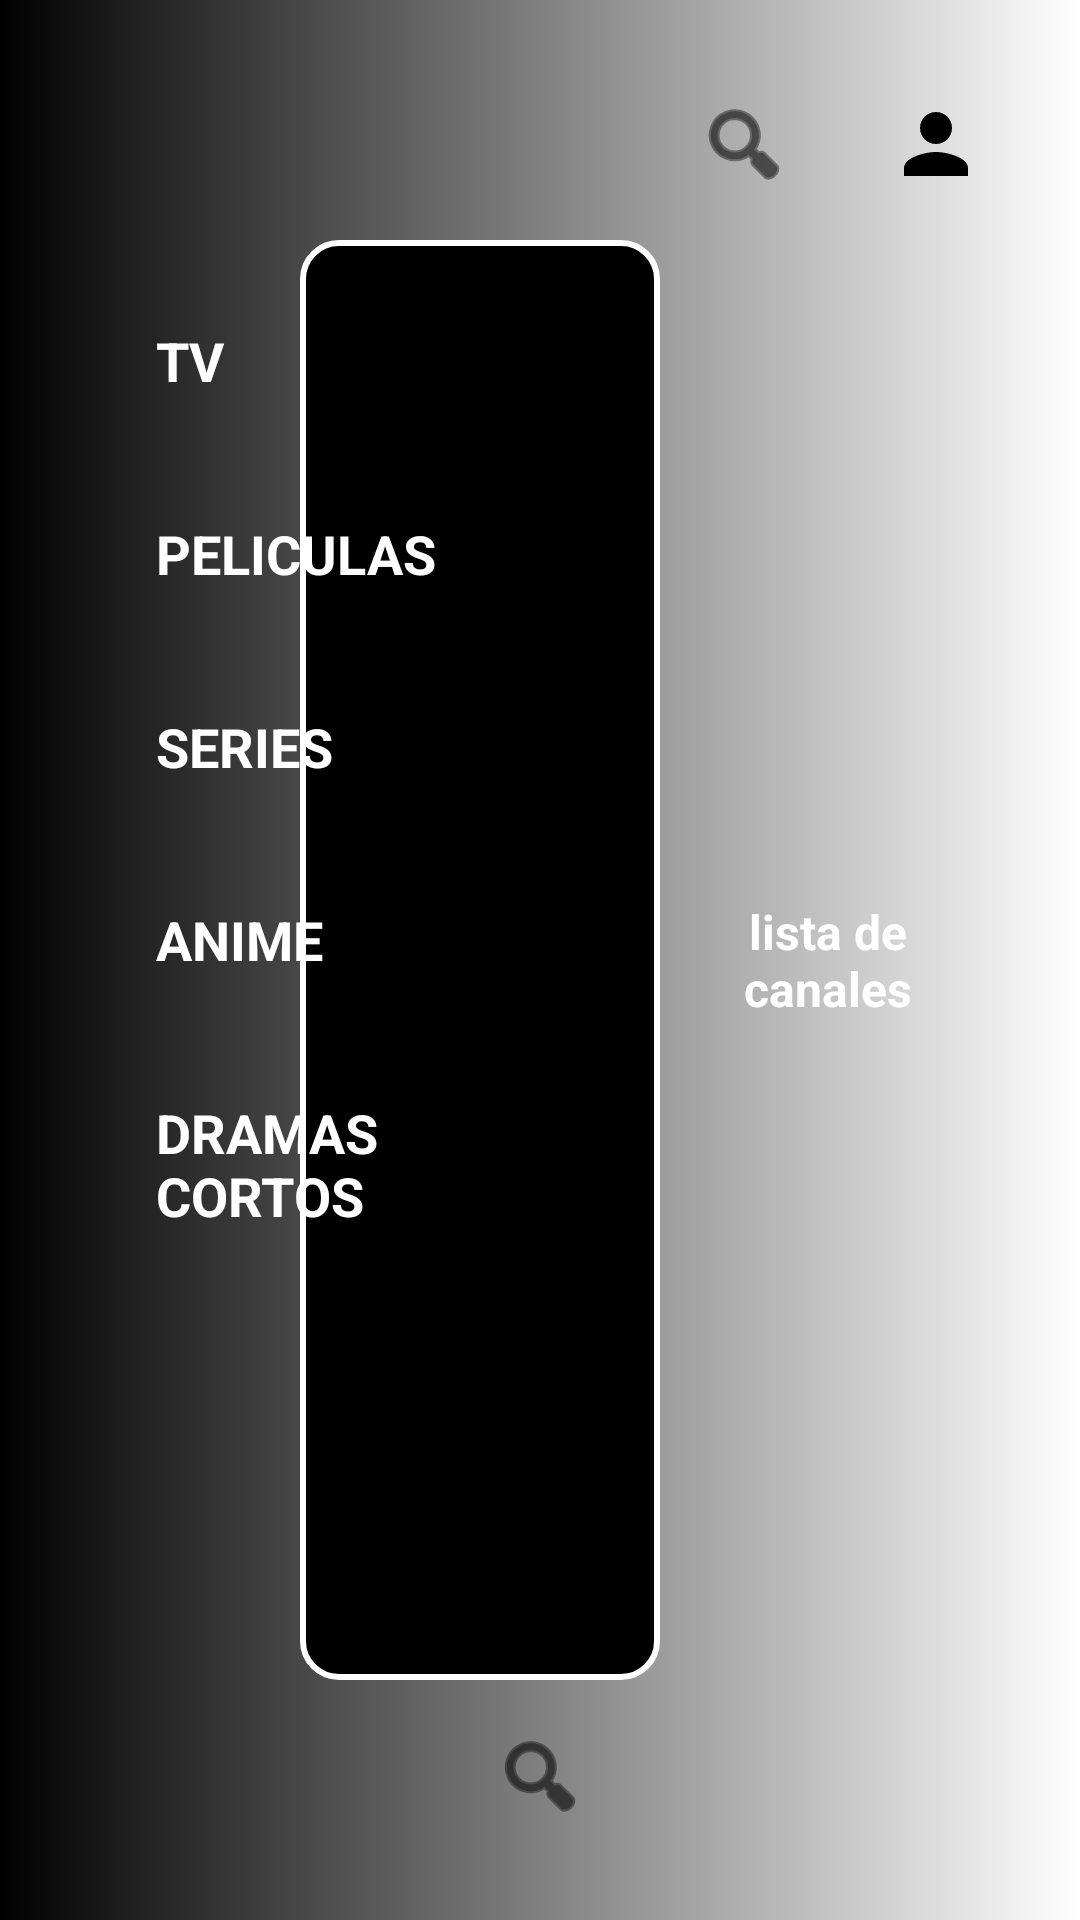

Screen size 1080px×1920px. Icon name, then its center in pixels as [x,y]:
Buscar: [738,144], [534,1776]
Perfil: [936,144]
